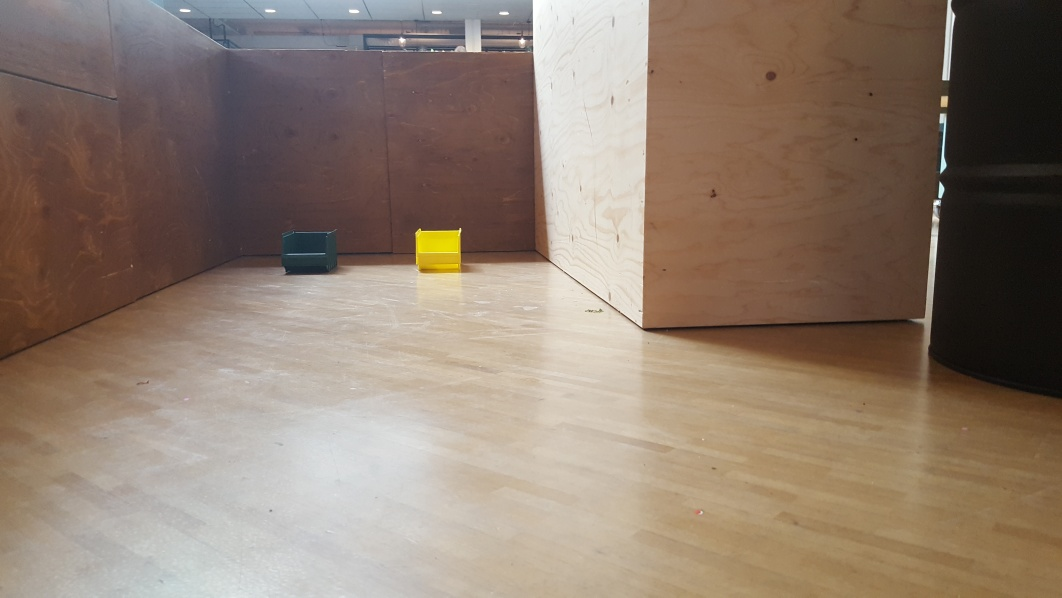tray: (278, 228, 341, 275), (409, 226, 467, 273)
